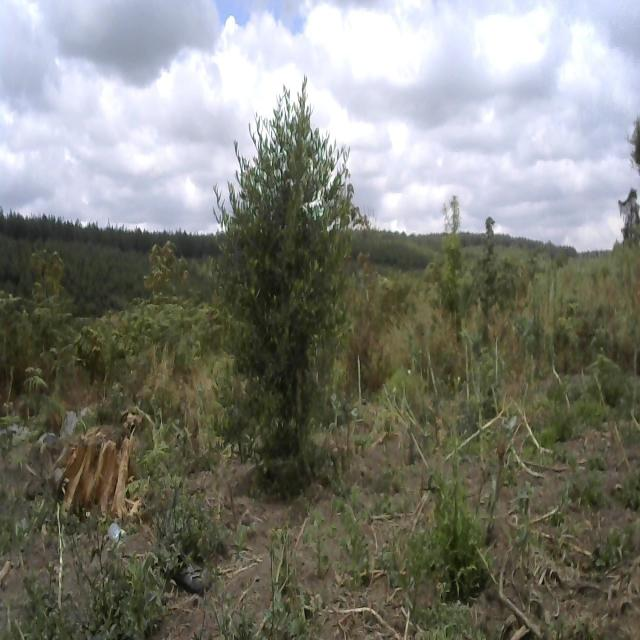Olea europea -africana-: (200, 76, 381, 498)
